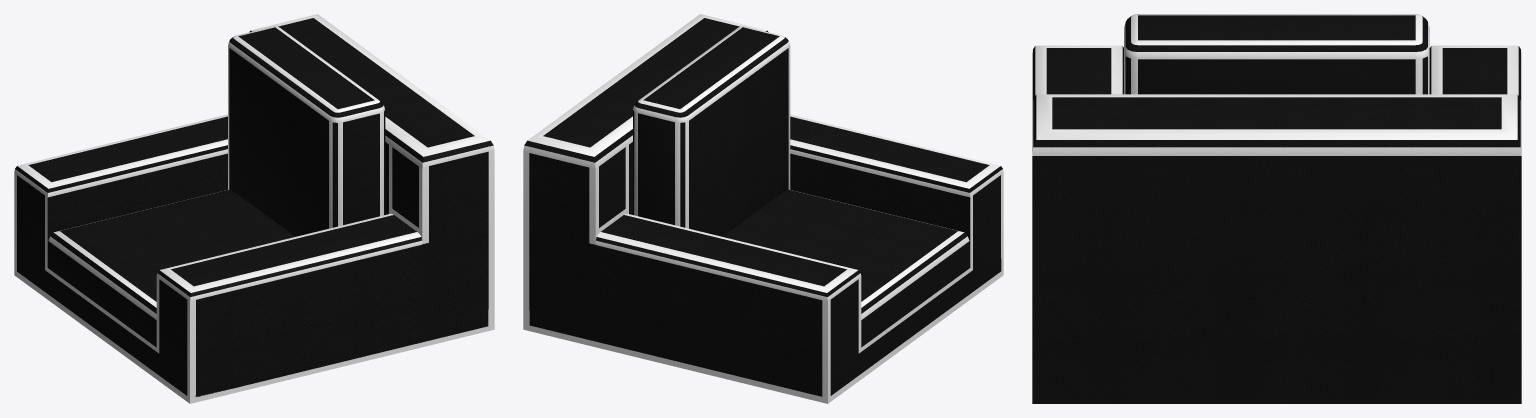
File: BigChair.FBX
3 views of the same model, side by side, from view 1: azimuth 30°, elevation 25°; view 2: azimuth 150°, elevation 25°; view 3: azimuth 270°, elevation 25° (orthographic). The views are drawn at different scales.
Visible parts, largest first — view 1: BigChair; view 2: BigChair; view 3: BigChair.
Boxes of the visible parts, x1=… form: BigChair: x1=14, y1=14, x2=494, y2=403; BigChair: x1=523, y1=14, x2=1003, y2=403; BigChair: x1=1032, y1=14, x2=1521, y2=403.
Size of the model in its own units: 78.74 by 54.68 by 78.74.
